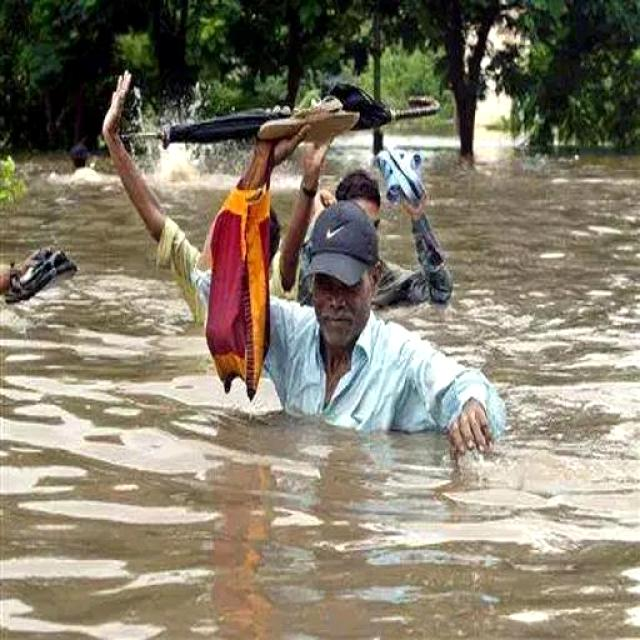civilian: (180, 89, 510, 483), (82, 67, 343, 354), (268, 110, 480, 354)
